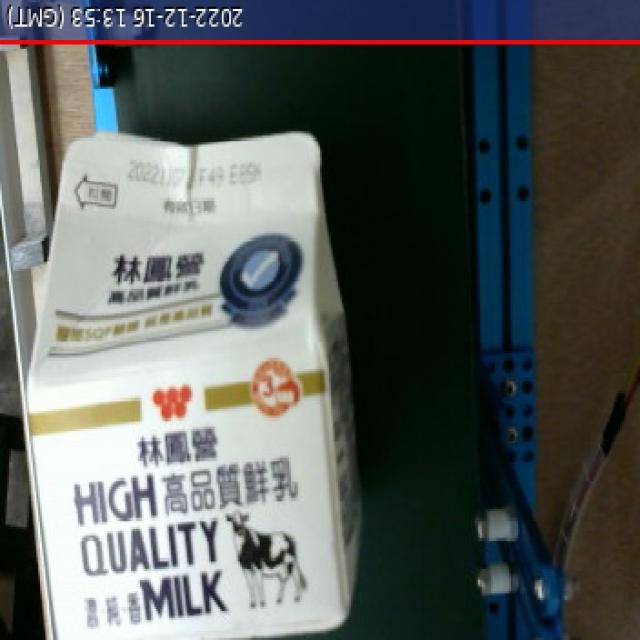non_white_jug: (22, 124, 378, 640)
